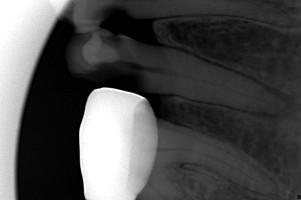Furcation Involvement: (250, 76, 296, 120)
